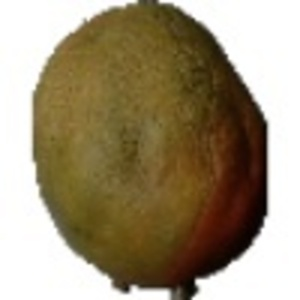mamão: (25, 3, 272, 290)
